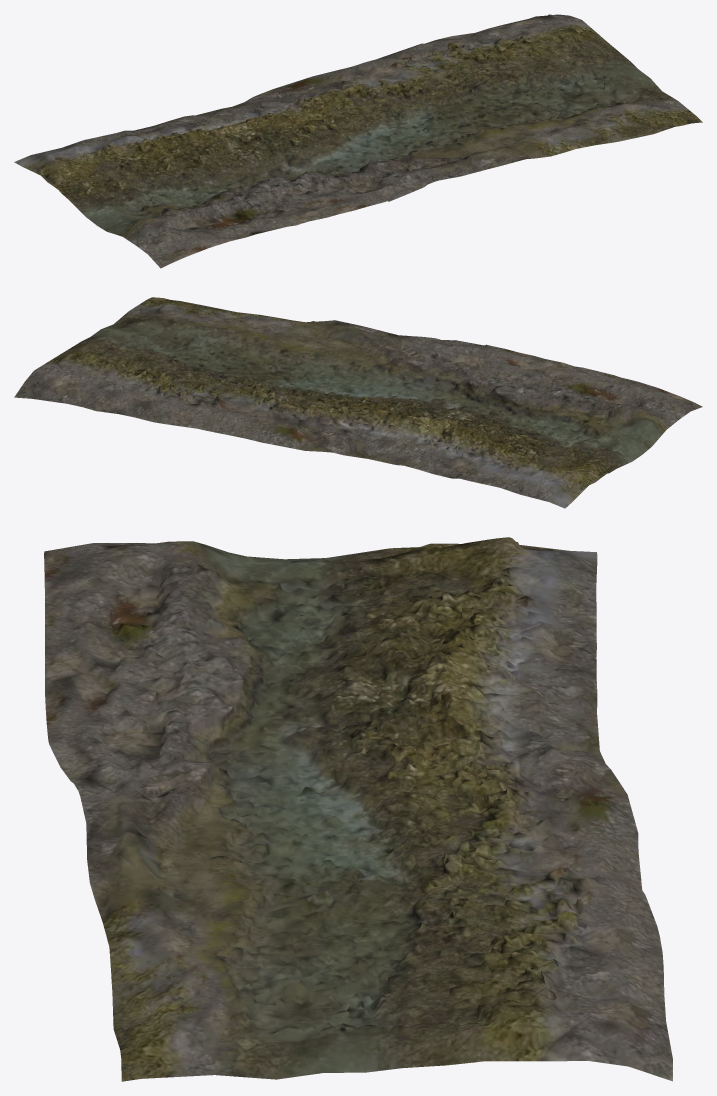
File: coast_line_02.glb
3 views of the same model, one above another, from view 1: azimuth 30°, elevation 25°; view 2: azimuth 150°, elevation 25°; view 3: azimuth 270°, elevation 25° (orthographic). The views are drawn at different scales.
Visible parts, largest first — view 1: coast_line_02; view 2: coast_line_02; view 3: coast_line_02.
Part boxes in pixels (bbox=[...]): coast_line_02: bbox=[14, 14, 702, 268]; coast_line_02: bbox=[14, 297, 702, 508]; coast_line_02: bbox=[44, 537, 672, 1081].
Size of the model in its own units: 45.62 by 2.25 by 23.28.
Materials: 1 (1 with a texture image).
